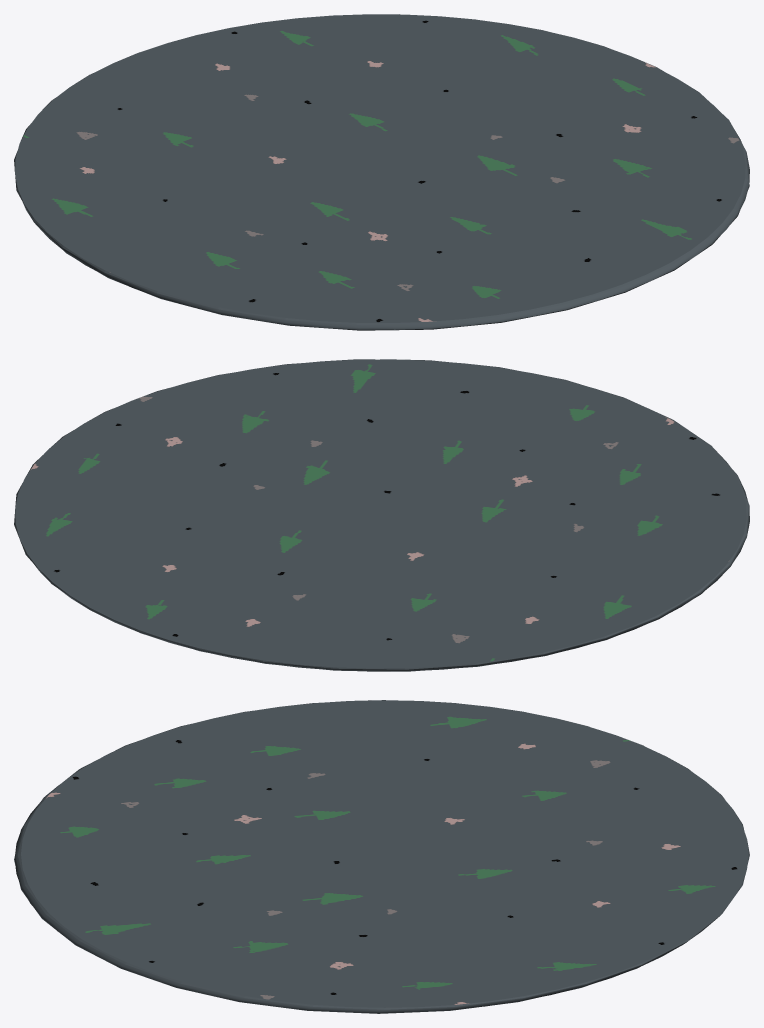
File: Rug 2.fbx
3 renders of one model, top to bottom at view 1: azimuth 30°, elevation 25°; view 2: azimuth 150°, elevation 25°; view 3: azimuth 270°, elevation 25°, orthographic.
Visible parts, largest first — view 1: Rug; view 2: Rug; view 3: Rug.
Boxes of the visible parts, bbox=[...] form: Rug: bbox=[14, 14, 749, 330]; Rug: bbox=[14, 359, 749, 671]; Rug: bbox=[14, 700, 749, 1013].
Size of the model in its own units: 1519 by 12.28 by 1527.
